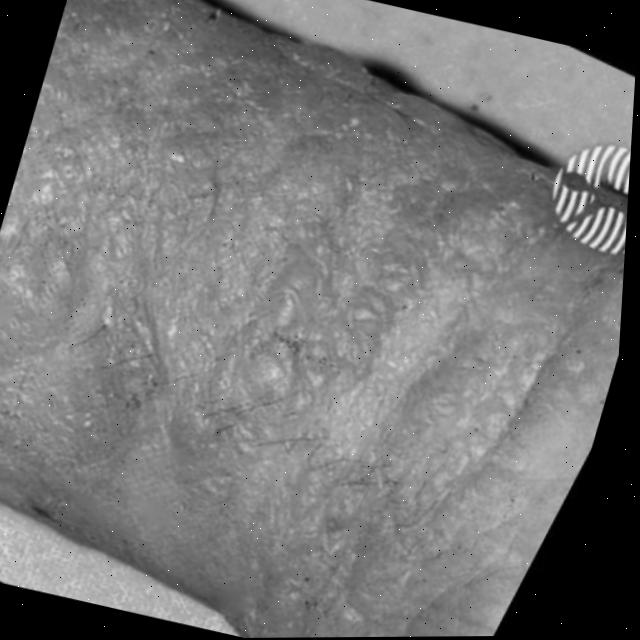Eczema: (0, 57, 615, 640)
